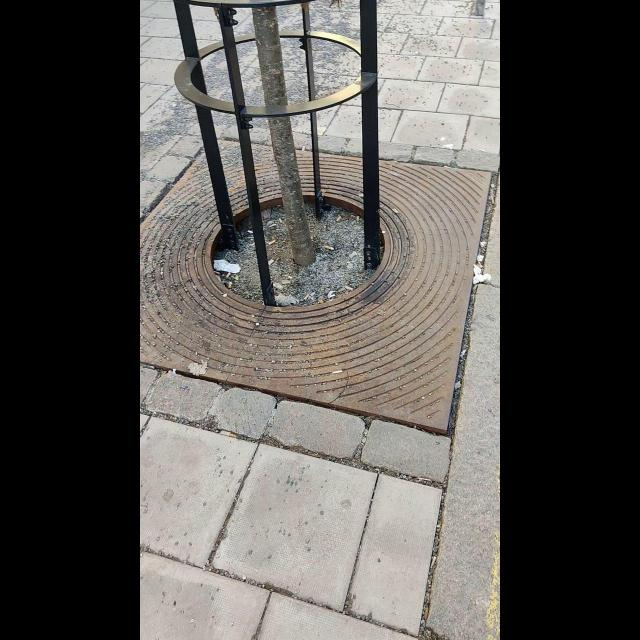cigarette: (348, 252, 356, 258), (478, 260, 483, 269), (326, 245, 334, 250), (335, 216, 340, 223), (227, 282, 232, 288), (303, 295, 308, 301), (332, 371, 341, 374), (268, 259, 272, 265), (346, 287, 354, 290), (269, 240, 274, 244), (226, 272, 229, 278), (278, 218, 282, 222), (302, 146, 304, 152), (251, 242, 254, 246)
